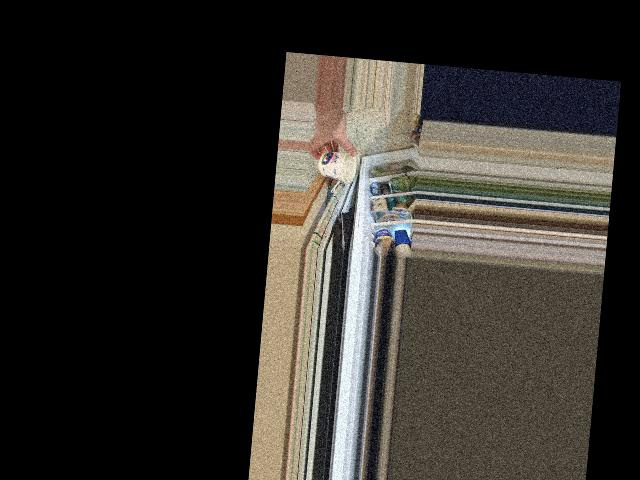cotage: (314, 151, 358, 183)
